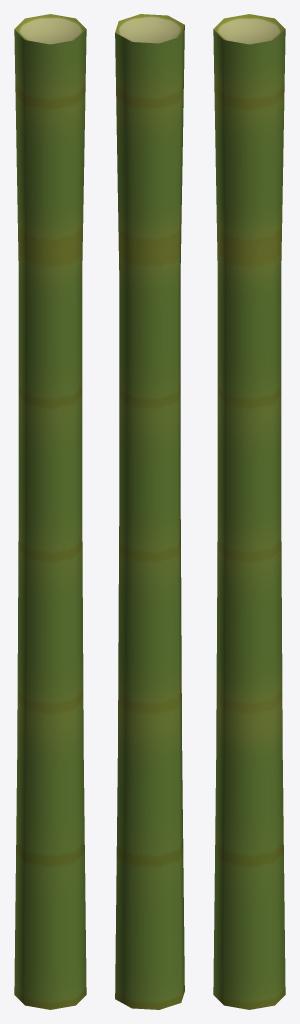
File: Bamboo_4.fbx
The picture shows the model from 3 angles, left to right: view 1: azimuth 90°, elevation 25°; view 2: azimuth 150°, elevation 25°; view 3: azimuth 270°, elevation 25°; orthographic projection.
Parts seen in each view (by area): view 1: Bamboo_4_LOD0; view 2: Bamboo_4_LOD0; view 3: Bamboo_4_LOD0.
Part boxes in pixels (box(x1,y1,x2,y2)): Bamboo_4_LOD0: box(14, 14, 86, 1009); Bamboo_4_LOD0: box(115, 14, 184, 1009); Bamboo_4_LOD0: box(213, 14, 285, 1009).
Size of what is drawn, in the model's own units: 14.03 by 207 by 14.03.
